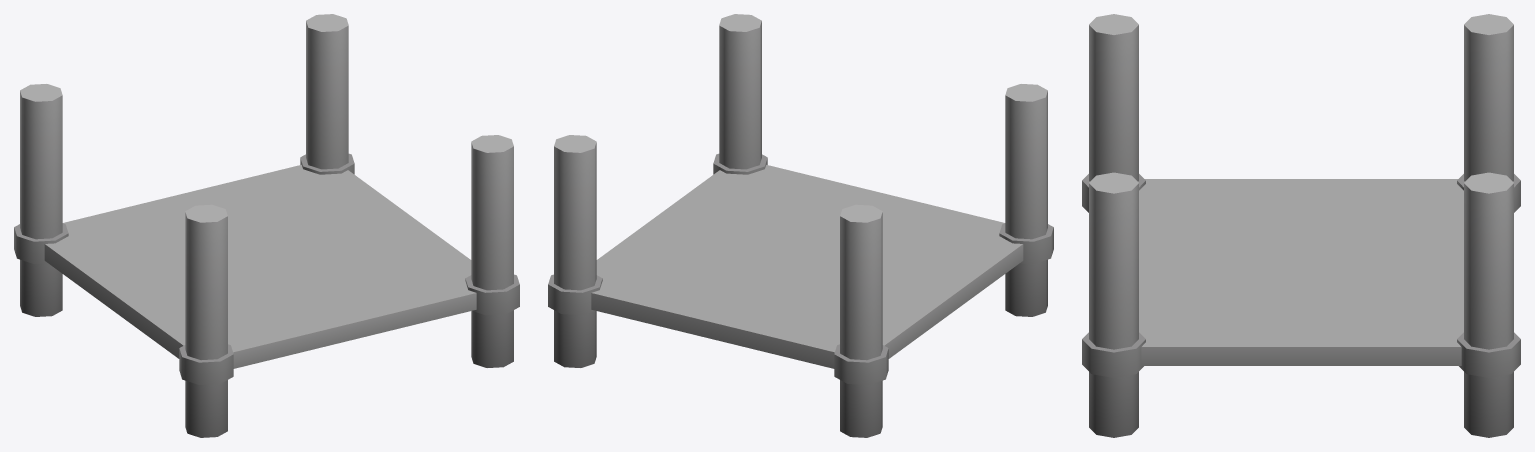
Rendered from Table_Leg_01_S.fbx.
3 views of the same model, side by side, from view 1: azimuth 30°, elevation 25°; view 2: azimuth 150°, elevation 25°; view 3: azimuth 270°, elevation 25° (orthographic). The views are drawn at different scales.
Visible parts, largest first — view 1: Table_Leg_01_S; view 2: Table_Leg_01_S; view 3: Table_Leg_01_S.
Part boxes in pixels (<box>): Table_Leg_01_S: <box>14,14,519,437</box>; Table_Leg_01_S: <box>548,14,1053,437</box>; Table_Leg_01_S: <box>1082,14,1520,437</box>.
Bounding box in the file's own units: 87.78 × 53.91 × 87.78.
